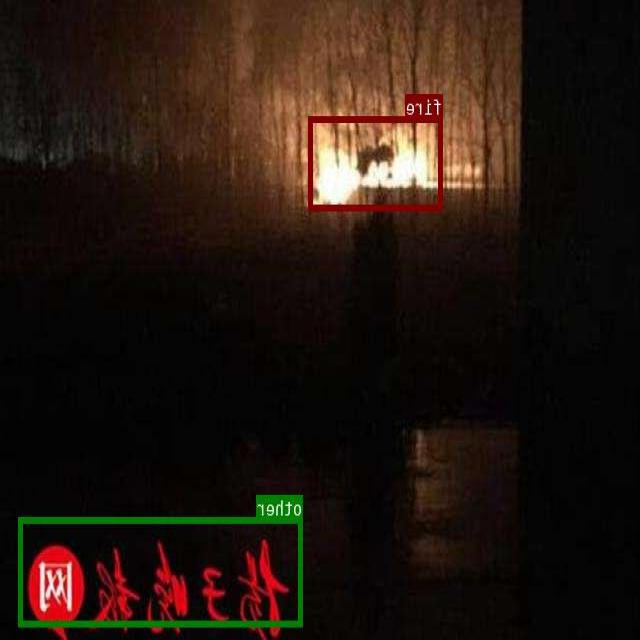fire: (309, 115, 443, 210)
other: (19, 516, 304, 626)
